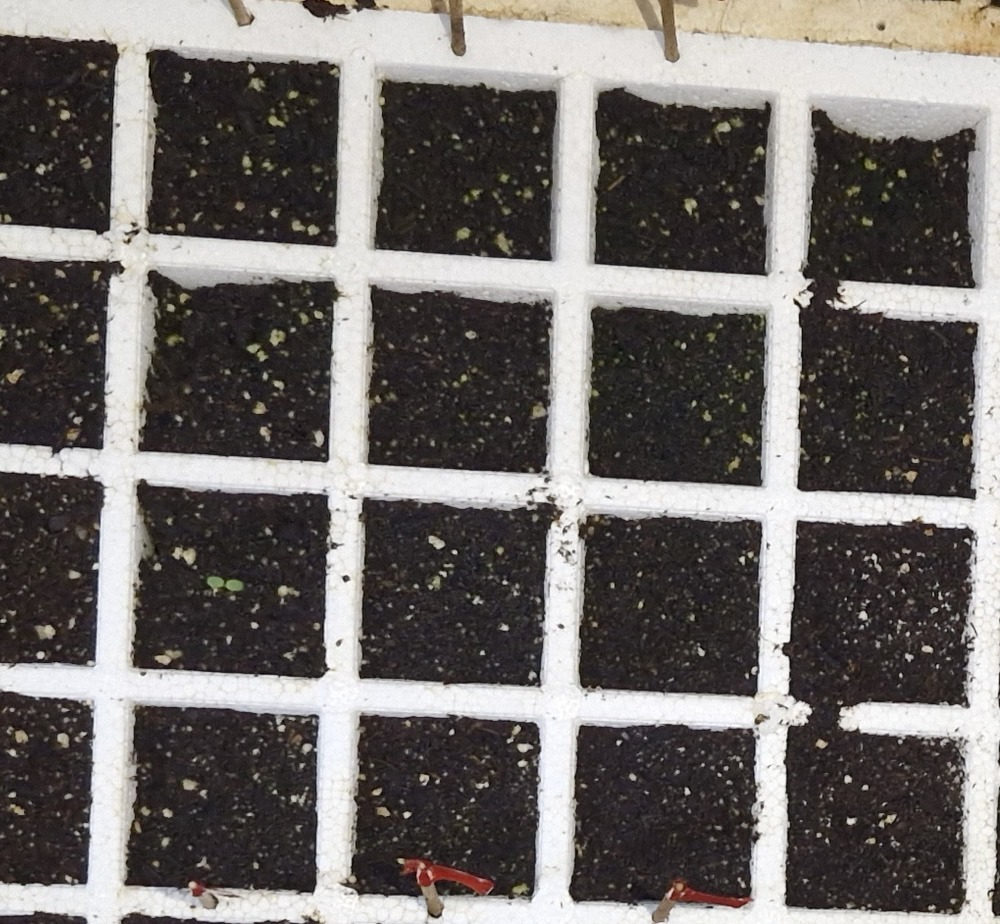Folha: (226, 580, 243, 590), (208, 577, 224, 587)
Germinacao: (207, 576, 244, 591)
